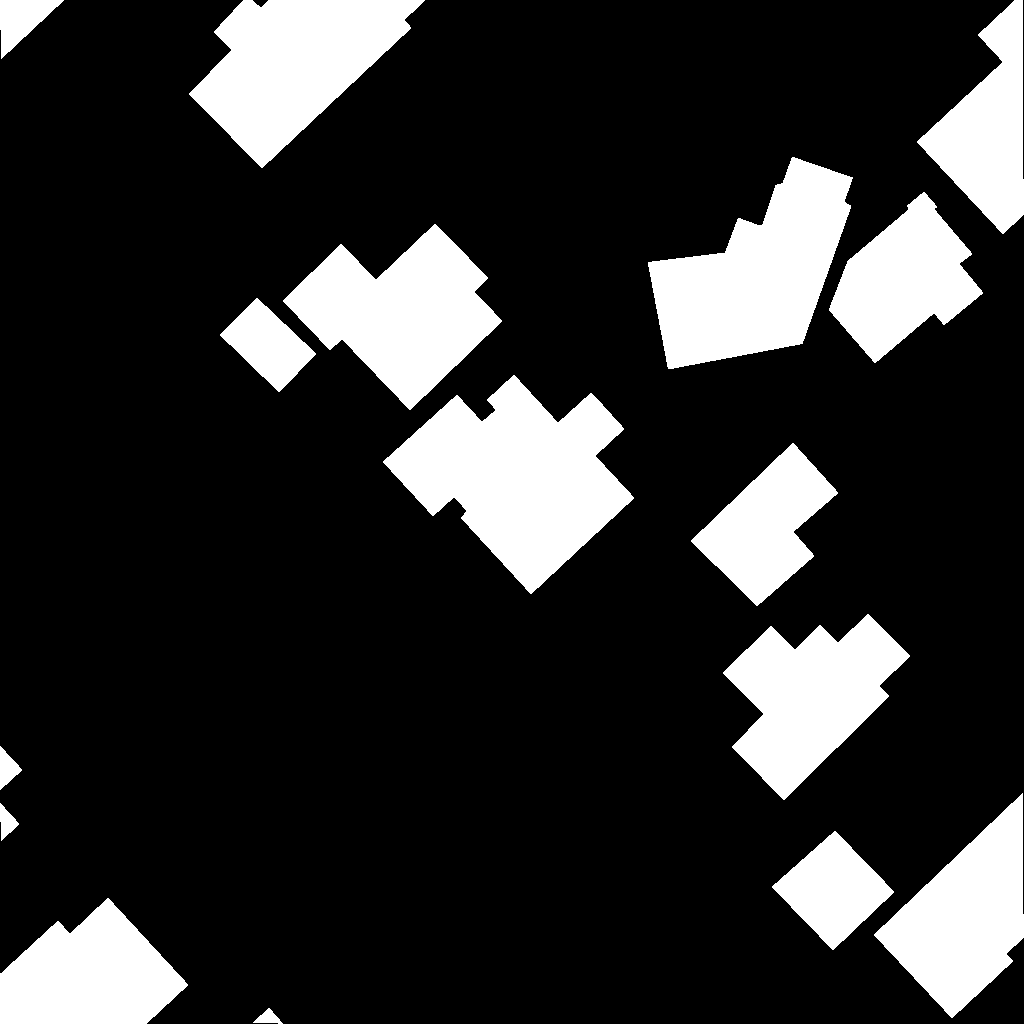building: (383, 375, 635, 595), (648, 157, 854, 370), (283, 224, 503, 411), (189, 0, 427, 169), (723, 614, 911, 801), (874, 793, 1024, 1019), (829, 192, 984, 364), (917, 0, 1024, 235), (691, 443, 839, 607), (0, 898, 189, 1024), (772, 831, 895, 951), (220, 298, 317, 393), (0, 0, 65, 60), (0, 746, 23, 842), (253, 1008, 284, 1024)
